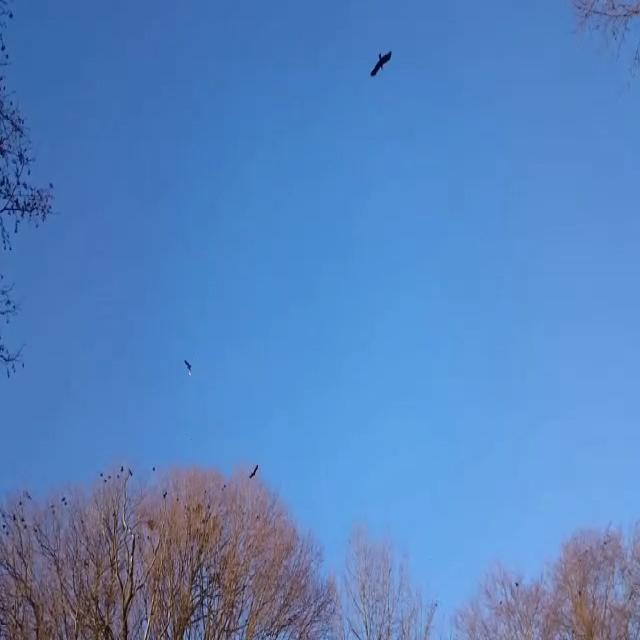bird: (367, 45, 399, 80), (247, 462, 263, 486), (182, 355, 191, 383)
